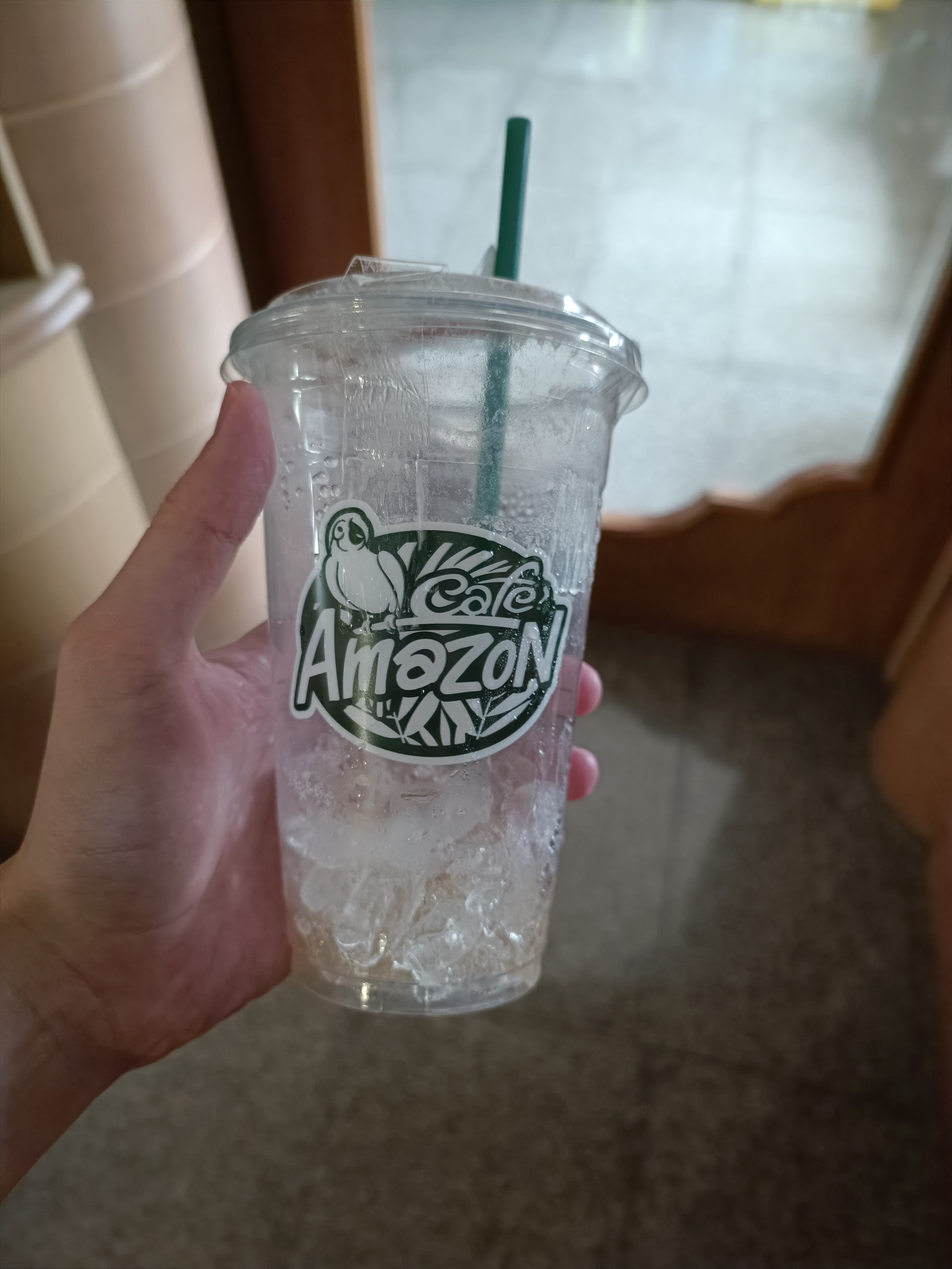plastic: (219, 97, 673, 1028)
